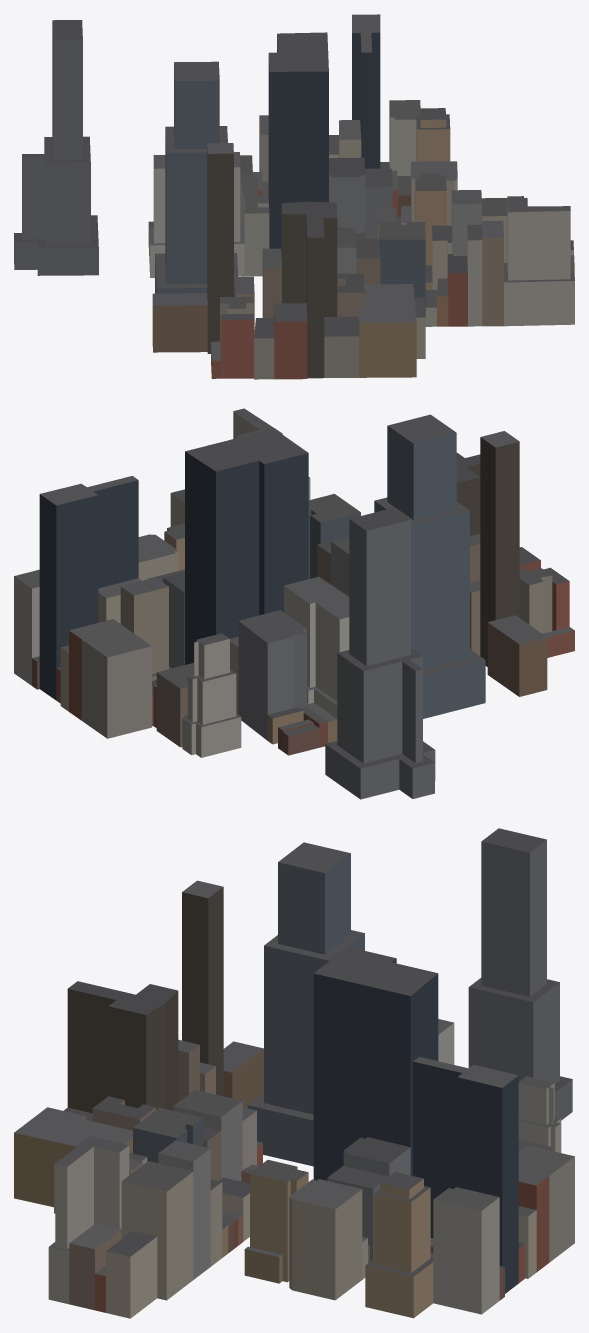
File: 1_-1.far.glb
3 views of the same model, one above another, from view 1: azimuth 30°, elevation 25°; view 2: azimuth 150°, elevation 25°; view 3: azimuth 270°, elevation 25° (orthographic). The views are drawn at different scales.
Visible parts, largest first — view 1: 1_-1_far; view 2: 1_-1_far; view 3: 1_-1_far.
Boxes of the visible parts, box(x1,y1,x2,y2) form: 1_-1_far: box(14, 14, 574, 379); 1_-1_far: box(14, 408, 574, 799); 1_-1_far: box(14, 828, 574, 1318).
Bounding box in the file's own units: 304 × 174 × 310.
